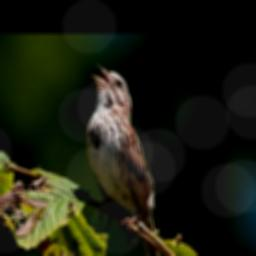Sparrow: (85, 62, 168, 256)
